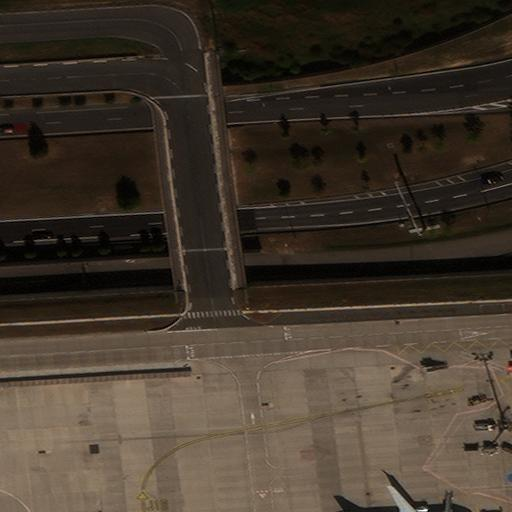Medium Civil Transport: (356, 485, 456, 511)
